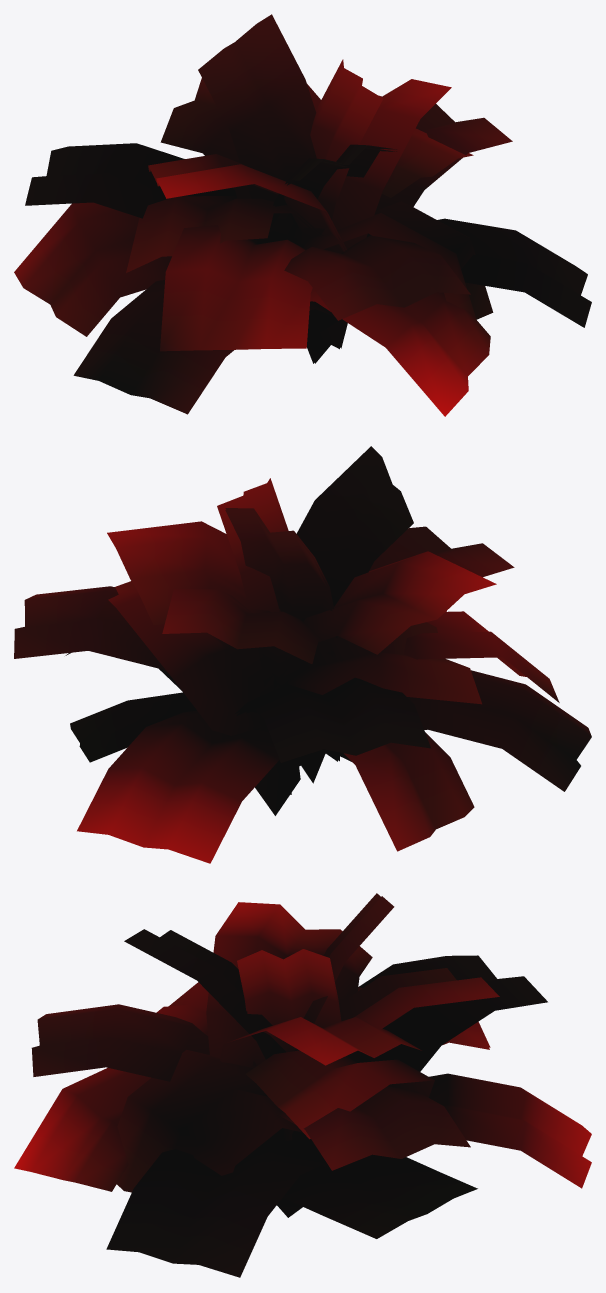
Rendered from TropicalShrub05_high.FBX.
3 views of the same model, one above another, from view 1: azimuth 30°, elevation 25°; view 2: azimuth 150°, elevation 25°; view 3: azimuth 270°, elevation 25° (orthographic). The views are drawn at different scales.
Visible parts, largest first — view 1: TropicalShrub05_high; view 2: TropicalShrub05_high; view 3: TropicalShrub05_high.
Part boxes in pixels (box(x1,y1,x2,y2)): TropicalShrub05_high: box(14, 14, 591, 416); TropicalShrub05_high: box(14, 446, 591, 863); TropicalShrub05_high: box(14, 893, 591, 1277).
Bounding box in the file's own units: 1.26 × 0.7599 × 1.26.
